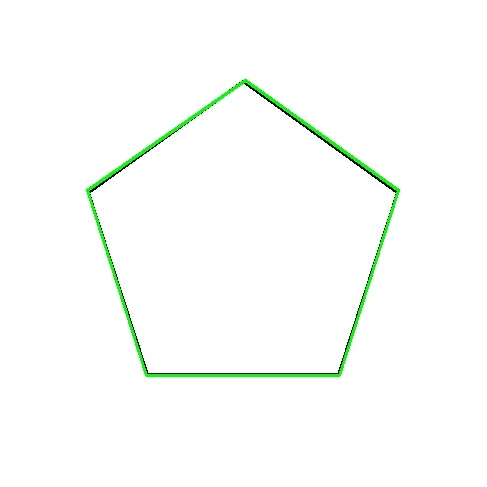line_segment: (86, 80, 399, 377)
